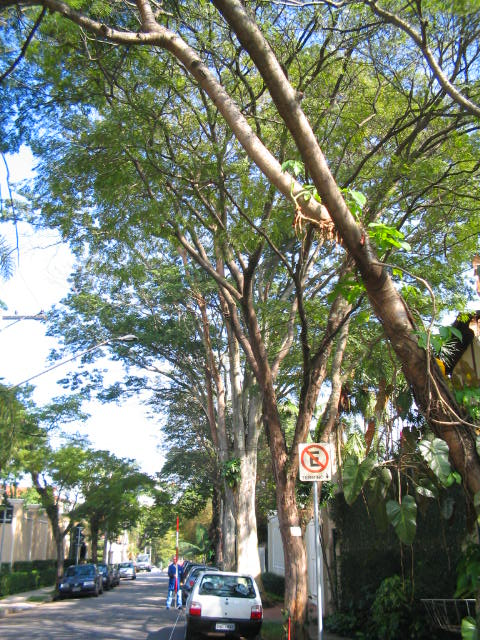stem: (268, 524, 321, 639)
stick: (171, 512, 183, 608)
